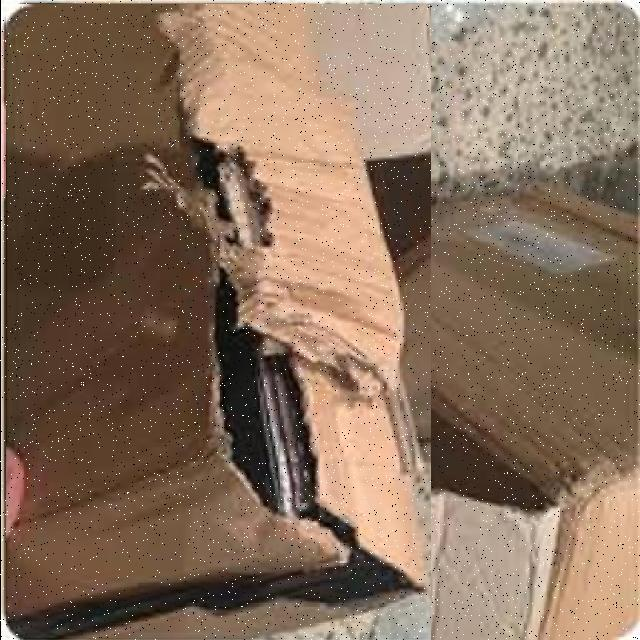defect: (5, 4, 430, 640)
